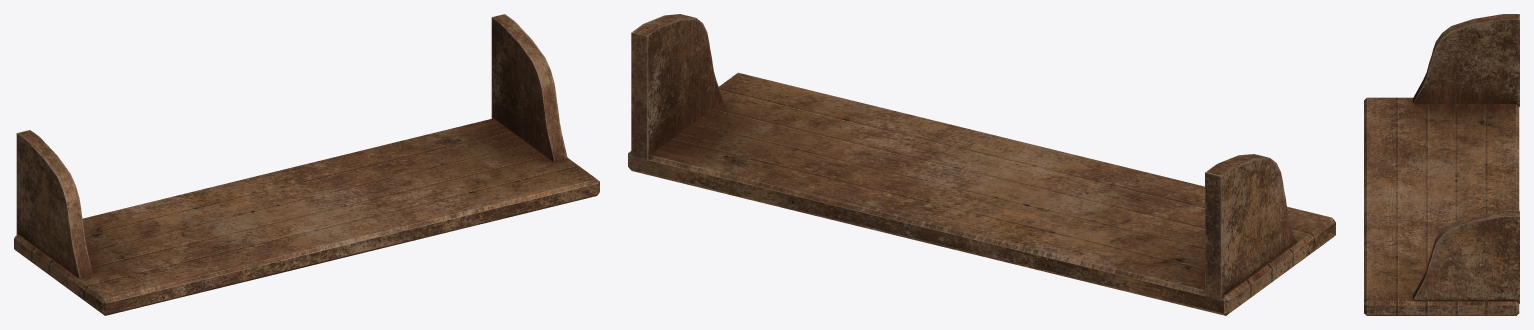
Rendered from office shelf.fbx.
3 renders of one model, left to right at view 1: azimuth 30°, elevation 25°; view 2: azimuth 150°, elevation 25°; view 3: azimuth 270°, elevation 25°, orthographic. The views are drawn at different scales.
Visible parts, largest first — view 1: shelf_low; view 2: shelf_low; view 3: shelf_low.
Boxes of the visible parts, bbox=[...] form: shelf_low: bbox=[14, 14, 599, 315]; shelf_low: bbox=[628, 14, 1335, 315]; shelf_low: bbox=[1364, 14, 1519, 315].
Size of the model in its own units: 628 by 141 by 201.
1 material, 1 textured.
